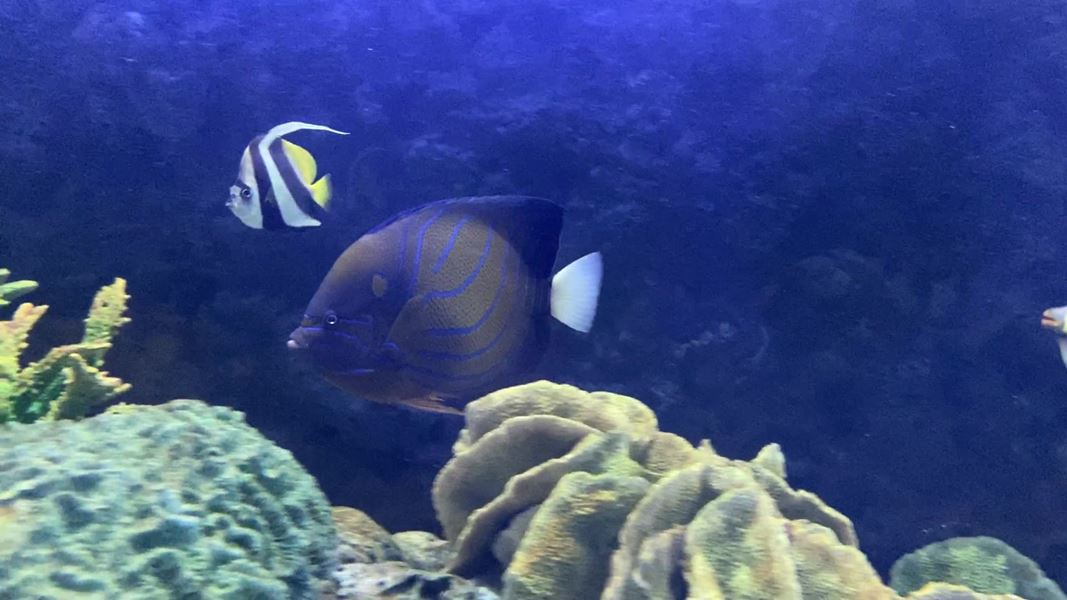Blue ring angelfish: (248, 182, 630, 434)
